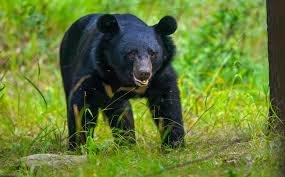bear: (59, 13, 188, 150)
